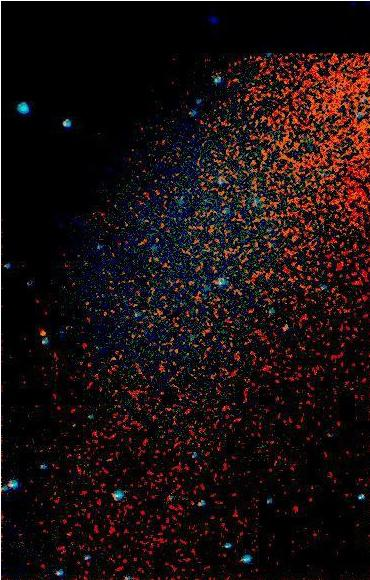star: (29, 316, 59, 346)
